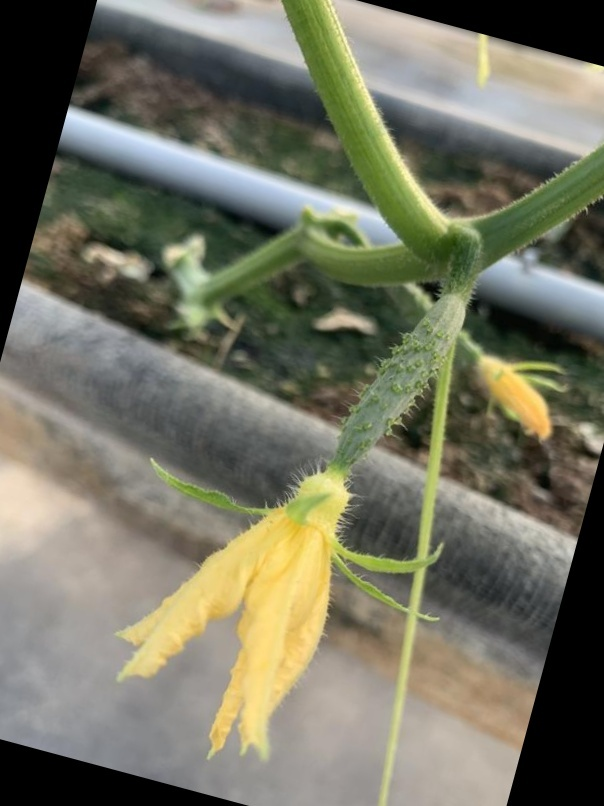bear: (117, 296, 478, 742)
